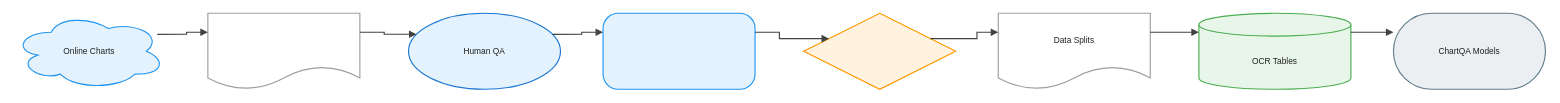
Some shapes in this 1560 by 103 pixel diagram are drawn without their labels. The shapes that lost their labels are listed below. From the top down, each one's centre as x and y in pixels, then its label:
[283,51]: Chart Metadata
[678,51]: T5 QA
[879,51]: QA Cleaning
